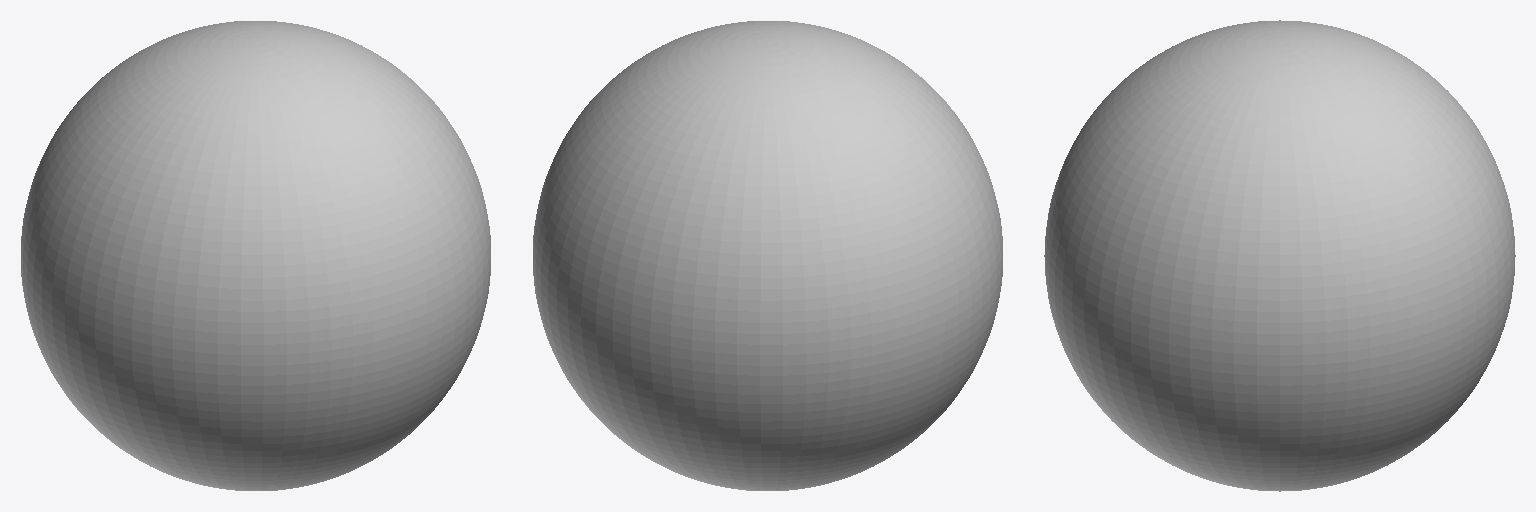
The model's file is bigball.obj.
3 views of the same model, side by side, from view 1: azimuth 30°, elevation 25°; view 2: azimuth 150°, elevation 25°; view 3: azimuth 270°, elevation 25° (orthographic).
Visible parts, largest first — view 1: Sphere; view 2: Sphere; view 3: Sphere.
Boxes of the visible parts, box(x1,y1,x2,y2) form: Sphere: box(21, 21, 490, 490); Sphere: box(533, 21, 1002, 490); Sphere: box(1044, 20, 1515, 491).
Size of the model in its own units: 4 by 4 by 4.